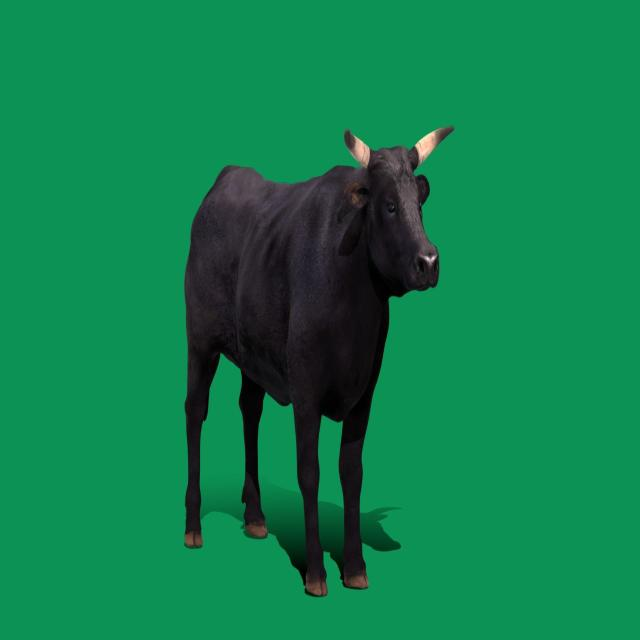Ox: (175, 116, 456, 593)
